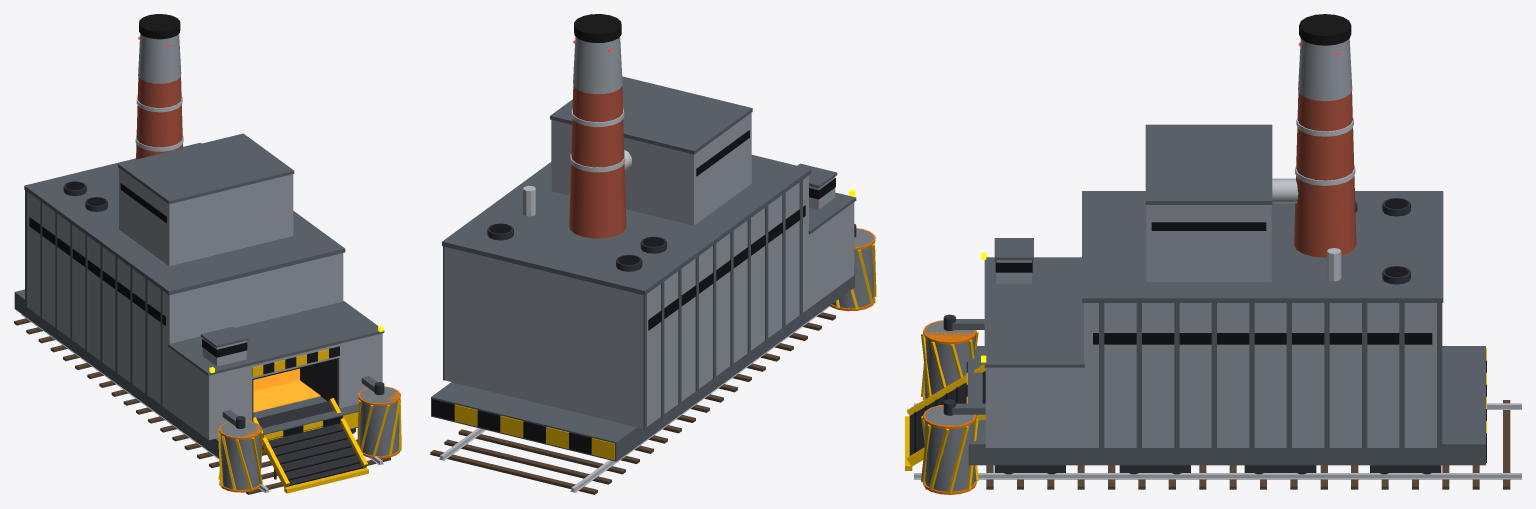
Rendered from incinerator.glb.
3 views of the same model, side by side, from view 1: azimuth 30°, elevation 25°; view 2: azimuth 150°, elevation 25°; view 3: azimuth 270°, elevation 25° (orthographic). The views are drawn at different scales.
Visible parts, largest first — view 1: body, brush_l, brush_r; view 2: body, brush_l; view 3: body, brush_r, brush_l.
Part boxes in pixels (x1,y1,x2,y2): body: (14, 14, 390, 494); brush_l: (218, 420, 263, 492); brush_r: (357, 386, 401, 458); body: (430, 14, 856, 494); brush_l: (830, 228, 876, 311); body: (905, 14, 1521, 489); brush_r: (921, 405, 978, 494); brush_l: (921, 320, 978, 399).
Bounding box in the file's own units: 1444 × 2600 × 3450.
